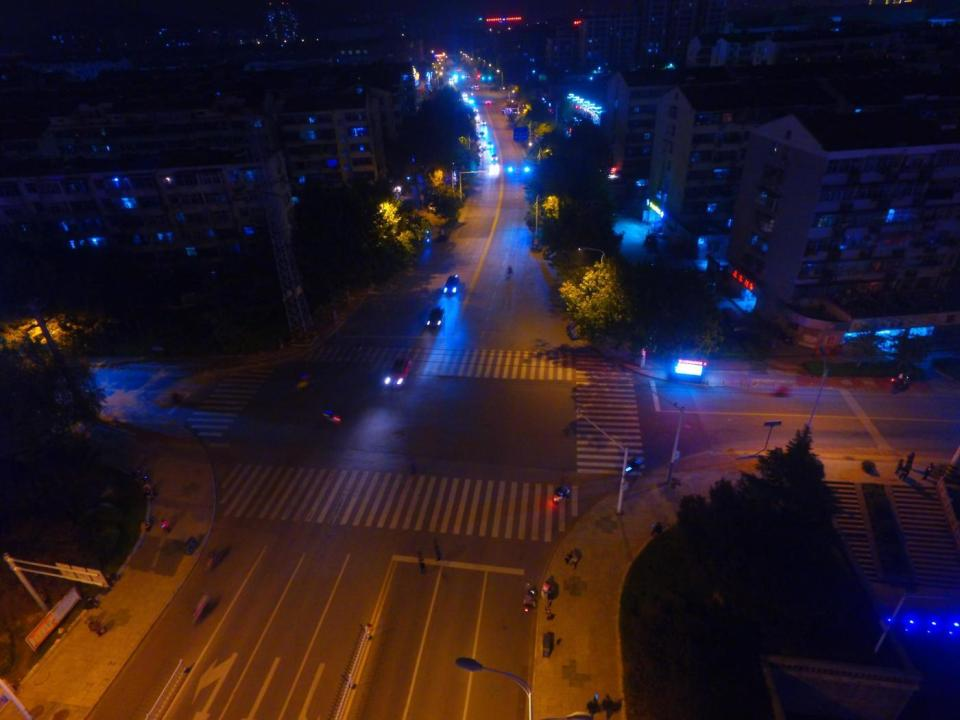car: (383, 356, 413, 388), (427, 307, 445, 329), (444, 276, 461, 295), (486, 141, 493, 148), (478, 132, 485, 139), (491, 154, 498, 160), (484, 99, 491, 105), (480, 121, 486, 126), (474, 84, 479, 88), (466, 74, 470, 79)
